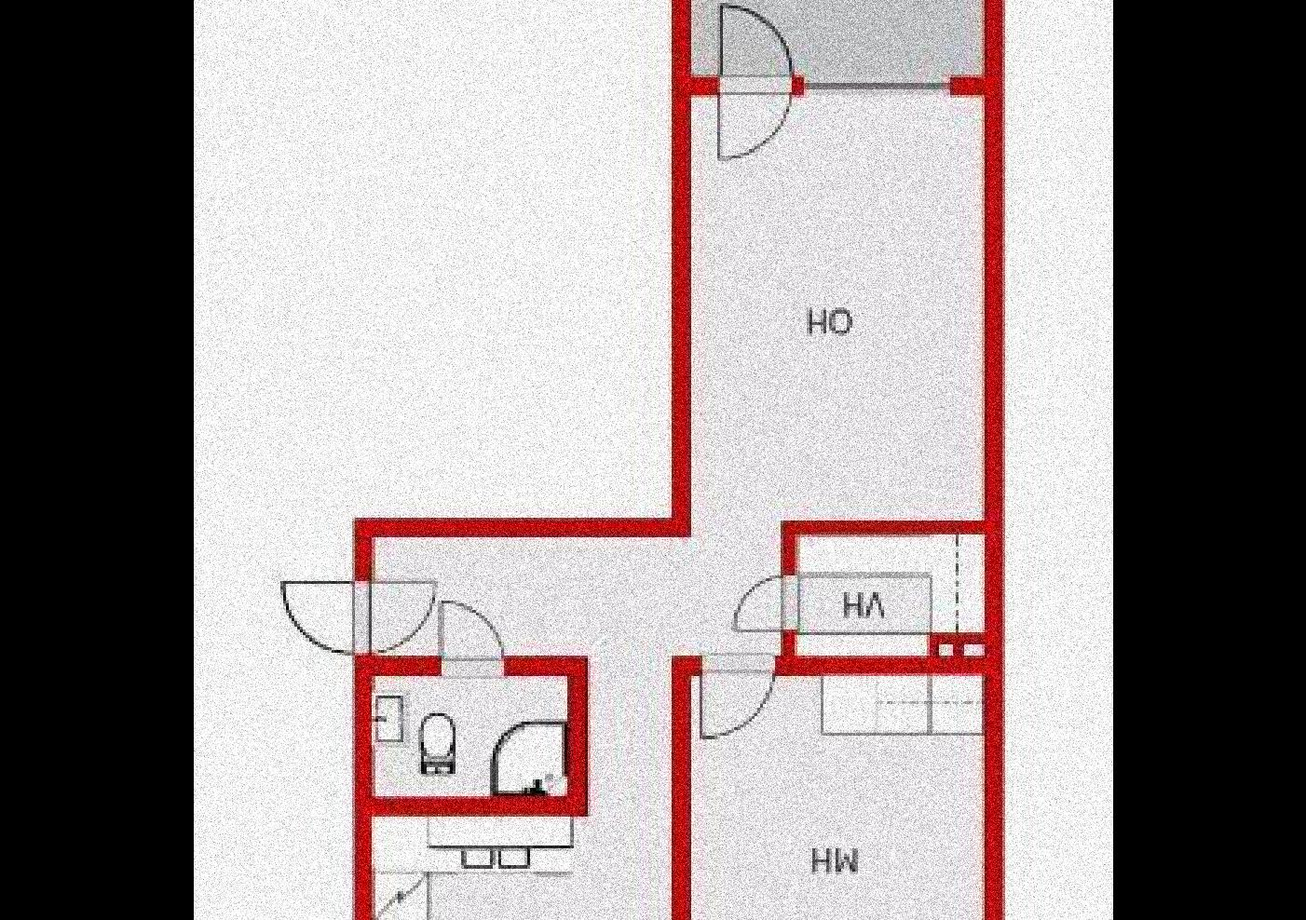door: (711, 0, 795, 167), (276, 578, 442, 657), (695, 646, 773, 741), (426, 602, 510, 683), (725, 568, 799, 638)
window: (806, 74, 945, 98)
zone: (371, 97, 988, 920), (692, 677, 984, 920), (378, 673, 568, 799), (690, 0, 986, 74)
